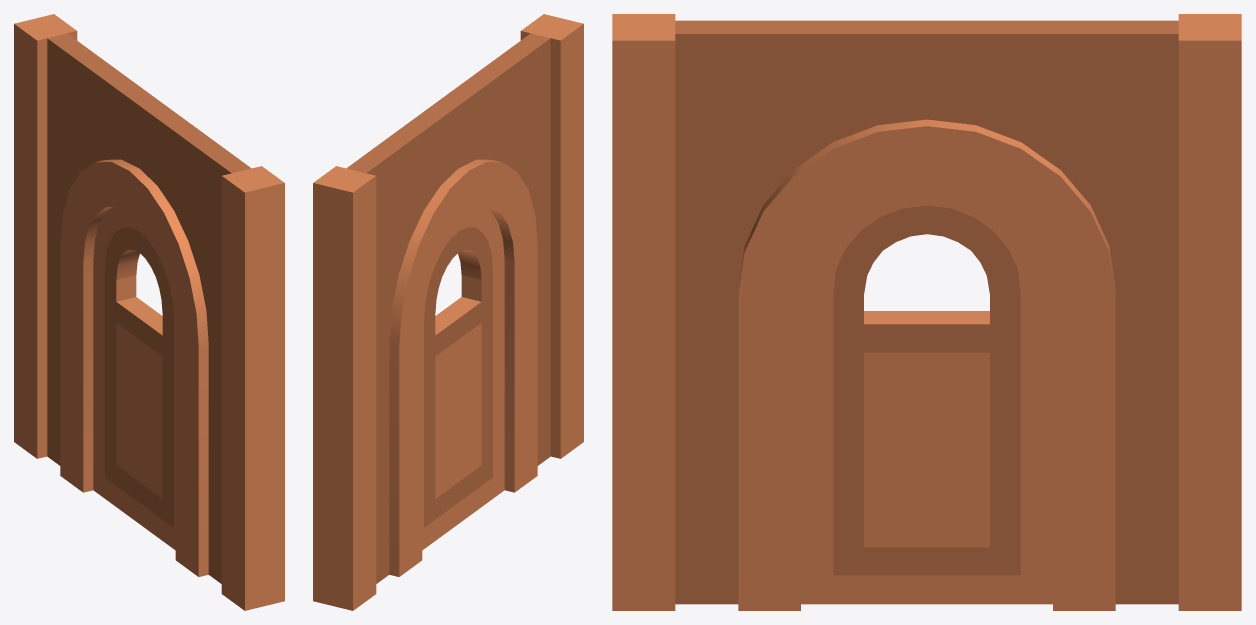
The model's file is wallWoodDoor.obj.
3 views of the same model, side by side, from view 1: azimuth 30°, elevation 25°; view 2: azimuth 150°, elevation 25°; view 3: azimuth 270°, elevation 25° (orthographic). The views are drawn at different scales.
Parts seen in each view (by area): view 1: wallWoodDoor, door; view 2: wallWoodDoor, door; view 3: wallWoodDoor, door.
Boxes of the visible parts, x1,y1,x2,y2 form: wallWoodDoor: (14, 14, 284, 610); door: (93, 207, 175, 550); wallWoodDoor: (313, 14, 583, 610); door: (422, 207, 504, 550); wallWoodDoor: (612, 14, 1241, 610); door: (801, 183, 1052, 604).
Bounding box in the file's own units: 0.1 × 1 × 1.
